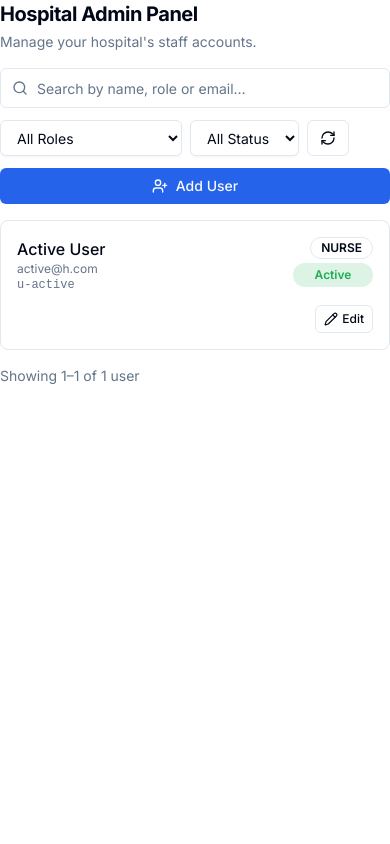
AdminPage — Edit button replaces kebab menu › Edit button opens the Edit User dialog pre-filled from the row
Click the button with aria-label "edit user ". click: [344, 319]
box: [315,305,373,333]
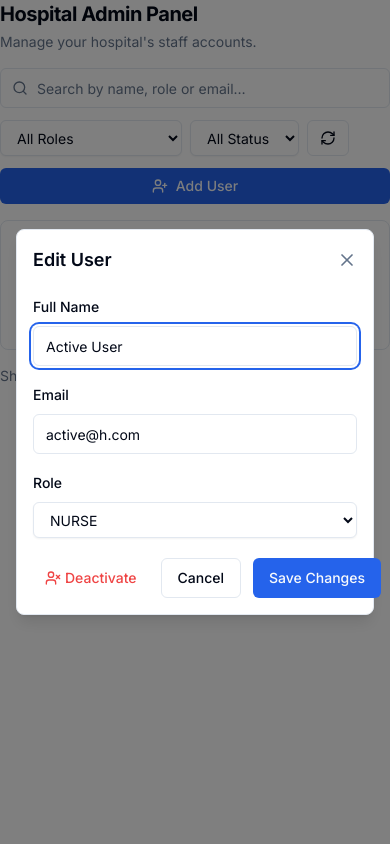
Check: the heading "Edit User" is shown, box [33,246,112,274]
Check: the field labelled "Full Name" holds "Active User", box [33,326,357,366]
Check: the field labelled "Email" holds "active@h.com", box [33,414,357,454]
